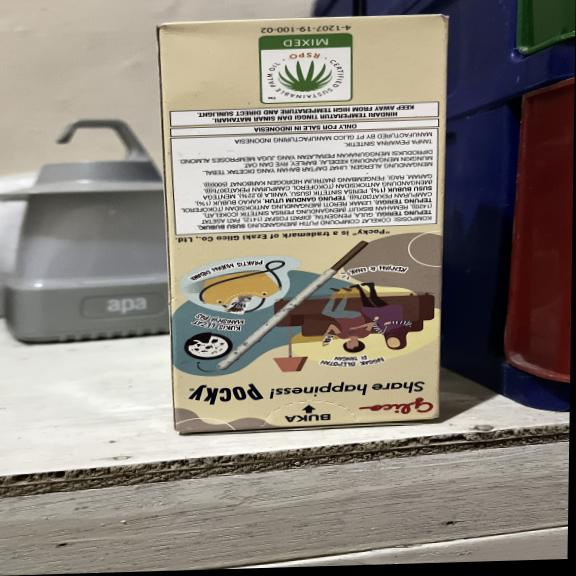Kertas: (162, 14, 449, 435)
